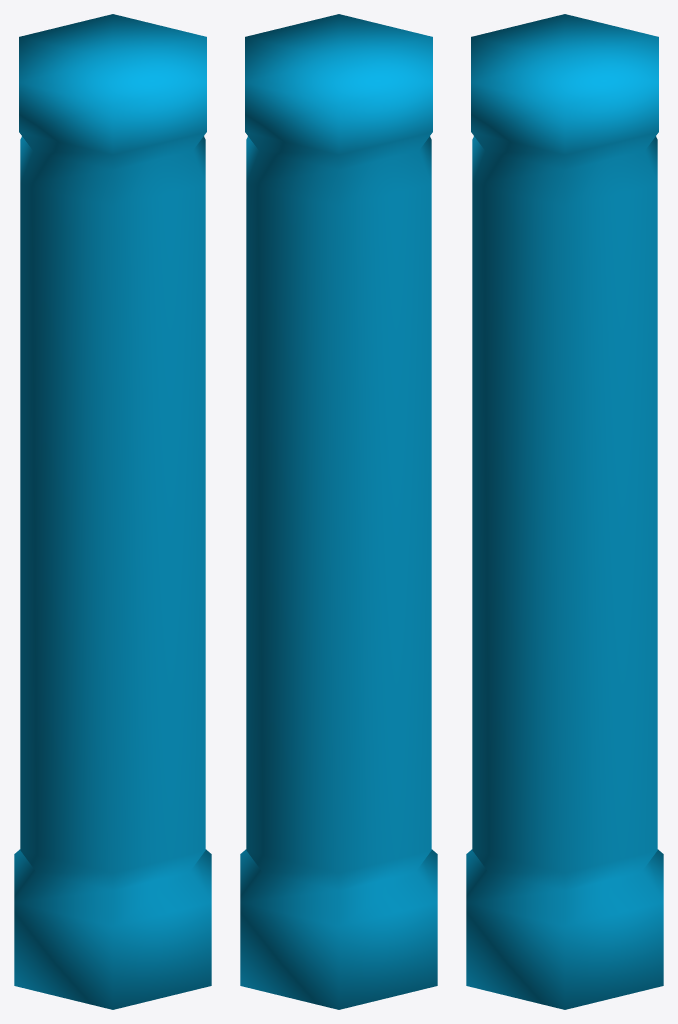
The model's file is Table_Feet.fbx.
The picture shows the model from 3 angles, left to right: view 1: azimuth 30°, elevation 25°; view 2: azimuth 150°, elevation 25°; view 3: azimuth 270°, elevation 25°; orthographic projection.
Parts seen in each view (by area): view 1: Table_Feet; view 2: Table_Feet; view 3: Table_Feet.
Part boxes in pixels (x1,y1,x2,y2): Table_Feet: (14, 14, 211, 1009); Table_Feet: (240, 14, 437, 1009); Table_Feet: (466, 14, 663, 1009).
Size of the model in its own units: 11.5 by 50.21 by 9.95.
